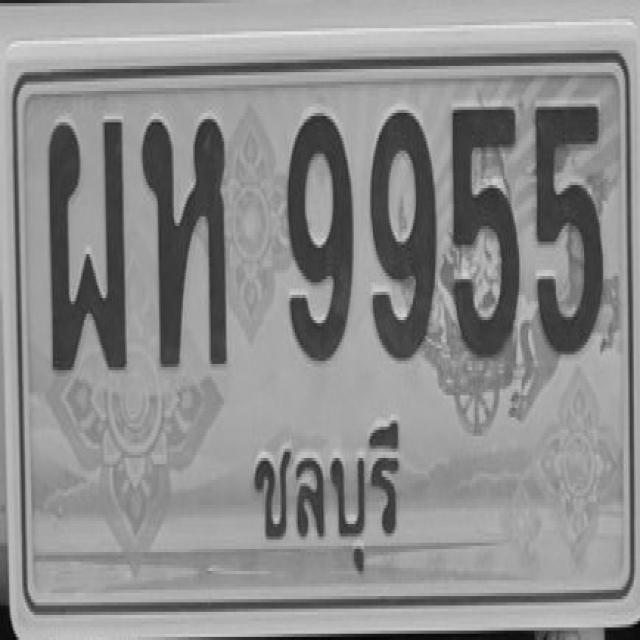37PhorPhueng: (34, 90, 130, 390)
5: (442, 67, 536, 420), (530, 84, 617, 421)
50HorHeep: (128, 97, 249, 410)
9: (354, 86, 444, 390), (271, 94, 359, 397)
Chonburi: (230, 408, 424, 578)
